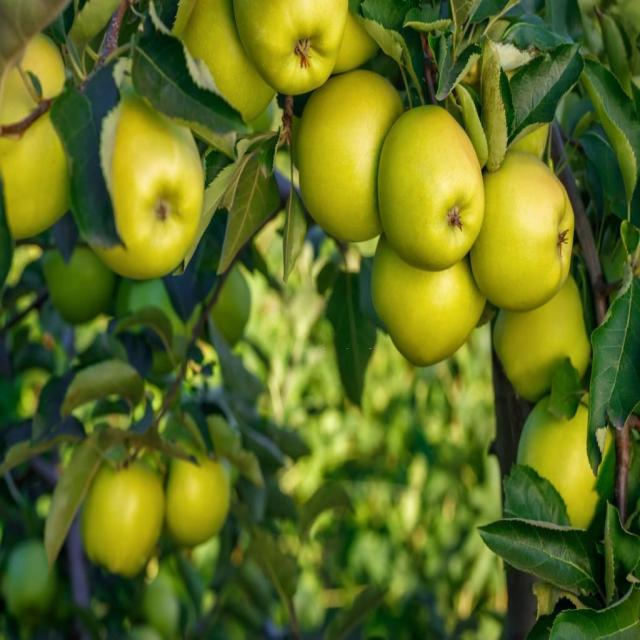Green Apple: (82, 76, 207, 269), (299, 71, 411, 244), (1, 36, 80, 236), (476, 144, 576, 301), (387, 108, 488, 263), (380, 216, 490, 358), (519, 386, 612, 534), (172, 1, 273, 118), (492, 284, 590, 394), (244, 1, 351, 94), (81, 453, 162, 569), (162, 455, 233, 548), (332, 1, 379, 82)
